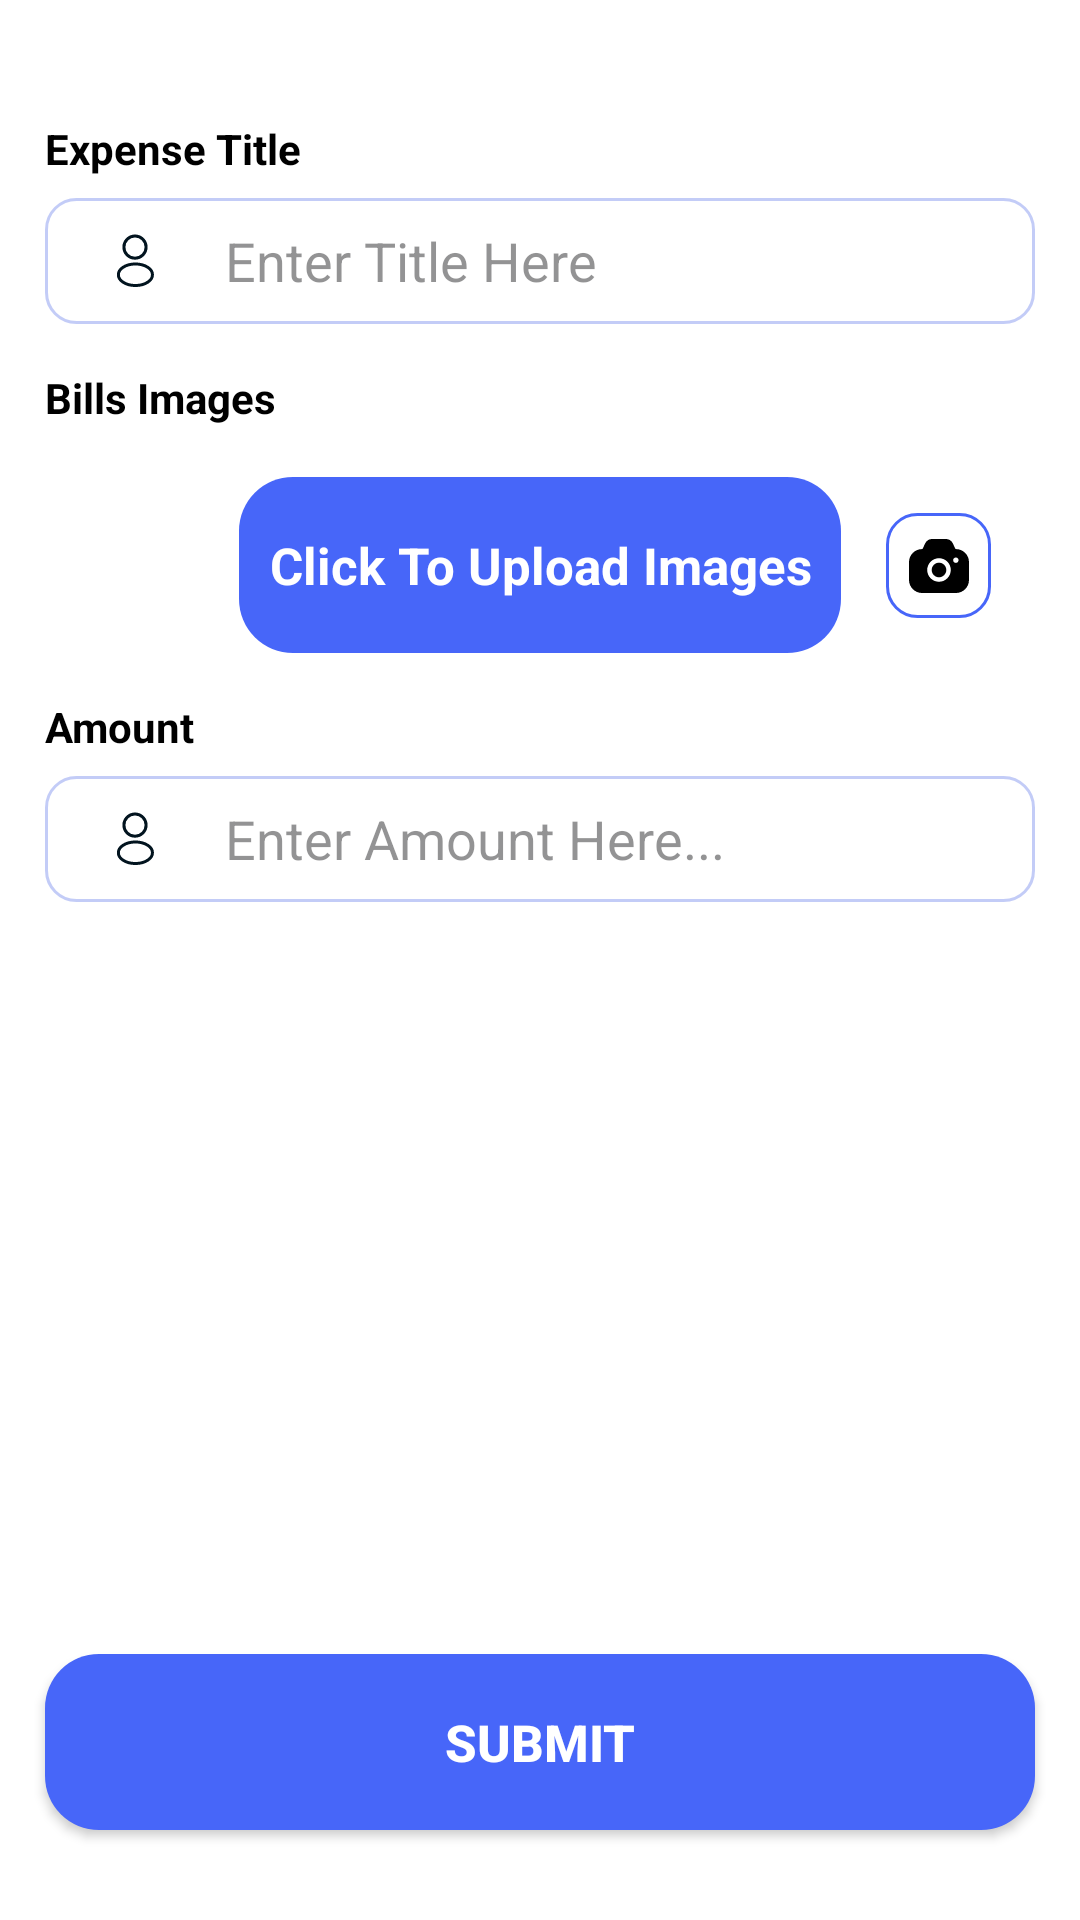

Named icons in this screenshot (1080*1920) and their centers, [x,y]:
camera: [938,565]
